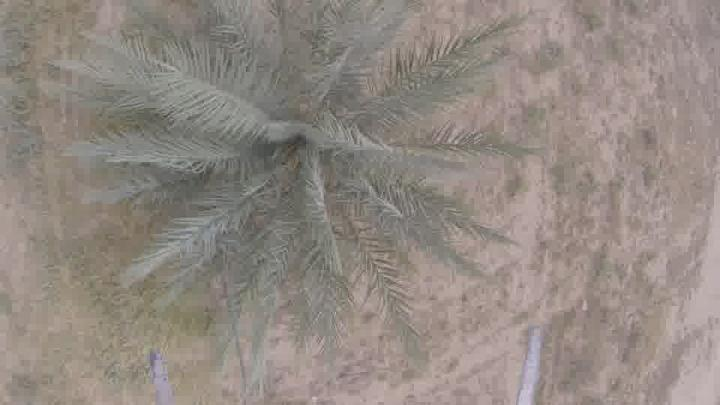Date-Palm-Crown: (158, 21, 432, 264)
